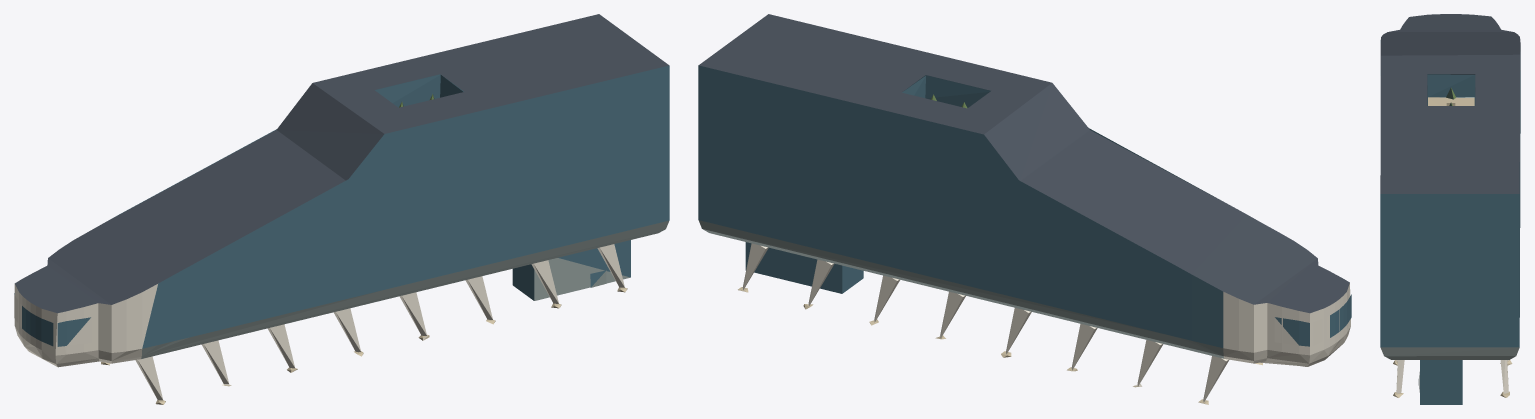
Rendered from ing-house.lod2.glb.
3 views of the same model, side by side, from view 1: azimuth 30°, elevation 25°; view 2: azimuth 150°, elevation 25°; view 3: azimuth 270°, elevation 25° (orthographic).
Parts seen in each view (by area): view 1: lod2; view 2: lod2; view 3: lod2.
Part boxes in pixels (x1,y1,x2,y2): lod2: (14,14,669,404); lod2: (698,14,1351,404); lod2: (1380,14,1520,404).
Size of the model in its own units: 138 by 48.45 by 27.88.
